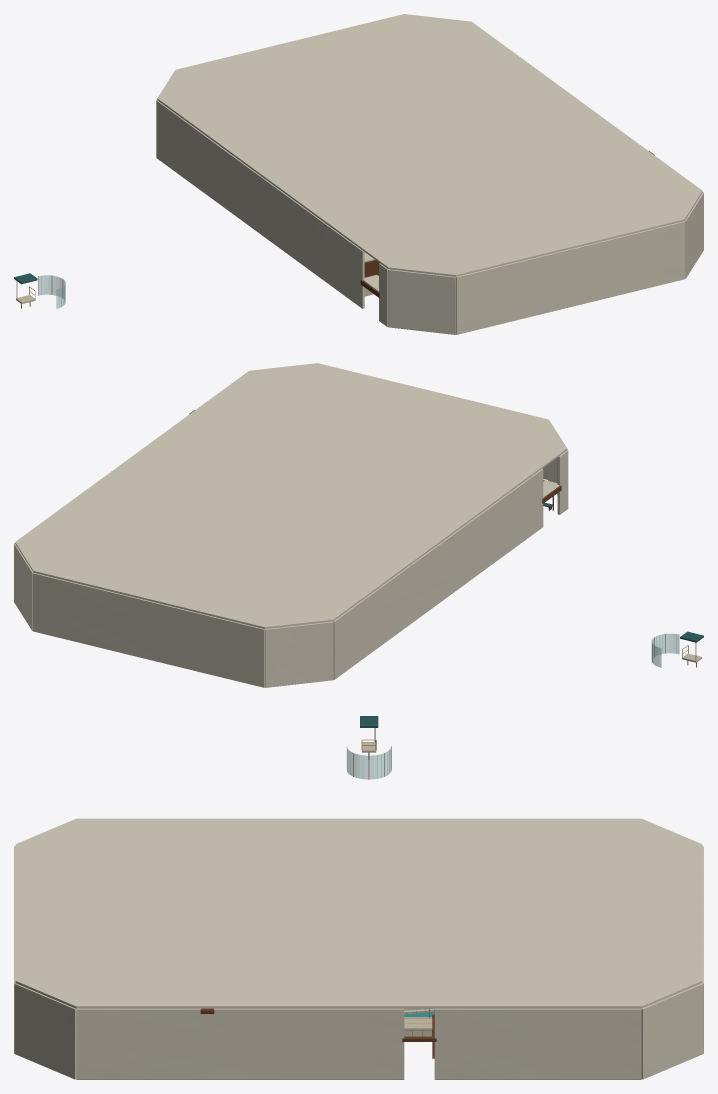
Rendered from AquaticCompletion_r009.glb.
The picture shows the model from 3 angles, top to bottom: view 1: azimuth 30°, elevation 25°; view 2: azimuth 150°, elevation 25°; view 3: azimuth 270°, elevation 25°; orthographic projection. The views are drawn at different scales.
Visible parts, largest first — view 1: AQ6_BATCH_roof_asset_ASTRAEA_ivory_enamel, AQ6_BATCH_architecture_ASTRAEA_ivory_enamel, AQ6_BATCH_architecture_AQD_glass; view 2: AQ6_BATCH_roof_asset_ASTRAEA_ivory_enamel, AQ6_BATCH_architecture_ASTRAEA_ivory_enamel, AQ6_BATCH_architecture_AQD_glass; view 3: AQ6_BATCH_roof_asset_ASTRAEA_ivory_enamel, AQ6_BATCH_architecture_ASTRAEA_ivory_enamel, AQ6_BATCH_architecture_AQD_glass.
Boxes of the visible parts, x1,y1,x2,y2 form: AQ6_BATCH_roof_asset_ASTRAEA_ivory_enamel: (157, 14, 702, 276); AQ6_BATCH_architecture_ASTRAEA_ivory_enamel: (156, 98, 703, 334); AQ6_BATCH_architecture_AQD_glass: (38, 275, 65, 308); AQ6_BATCH_roof_asset_ASTRAEA_ivory_enamel: (15, 363, 567, 629); AQ6_BATCH_architecture_ASTRAEA_ivory_enamel: (14, 449, 568, 687); AQ6_BATCH_architecture_AQD_glass: (651, 633, 679, 667); AQ6_BATCH_roof_asset_ASTRAEA_ivory_enamel: (15, 818, 702, 1008); AQ6_BATCH_architecture_ASTRAEA_ivory_enamel: (14, 846, 703, 1079); AQ6_BATCH_architecture_AQD_glass: (346, 747, 391, 779).
Bounding box in the file's own units: 79.52 × 9.15 × 68.32.
Materials: 19 (16 with a texture image).
